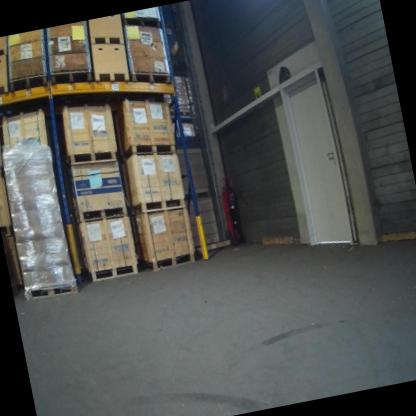pallet: (117, 135, 177, 166), (22, 276, 80, 305), (62, 144, 118, 170), (129, 193, 187, 218), (142, 247, 197, 273), (74, 201, 129, 226), (121, 7, 163, 37), (89, 260, 139, 285), (129, 64, 172, 92), (48, 66, 94, 90), (6, 72, 50, 93), (93, 66, 131, 87), (92, 30, 126, 51), (0, 222, 14, 239), (0, 80, 11, 98), (177, 107, 192, 119), (0, 45, 9, 58), (0, 164, 4, 180)
